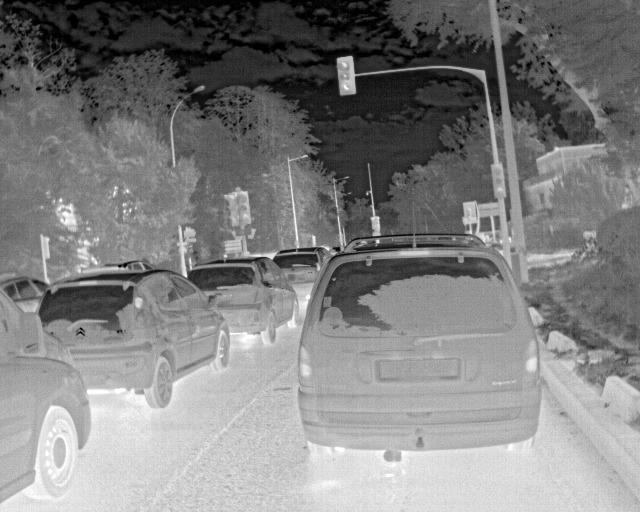car: (297, 245, 541, 454), (36, 269, 231, 408), (0, 349, 92, 505), (188, 256, 299, 344), (0, 288, 76, 366), (272, 247, 333, 299), (342, 233, 489, 252), (0, 276, 52, 313), (103, 259, 156, 271)
light: (336, 56, 356, 96), (491, 164, 507, 198), (225, 194, 239, 226), (237, 194, 251, 225), (43, 237, 50, 259)
sign: (463, 201, 477, 224), (478, 209, 500, 217), (235, 228, 252, 236), (370, 217, 380, 230), (477, 202, 498, 208), (184, 230, 196, 237), (178, 246, 187, 255), (223, 239, 241, 243), (224, 247, 242, 251), (224, 250, 242, 254), (224, 243, 241, 247), (184, 239, 196, 243), (176, 242, 187, 246)
